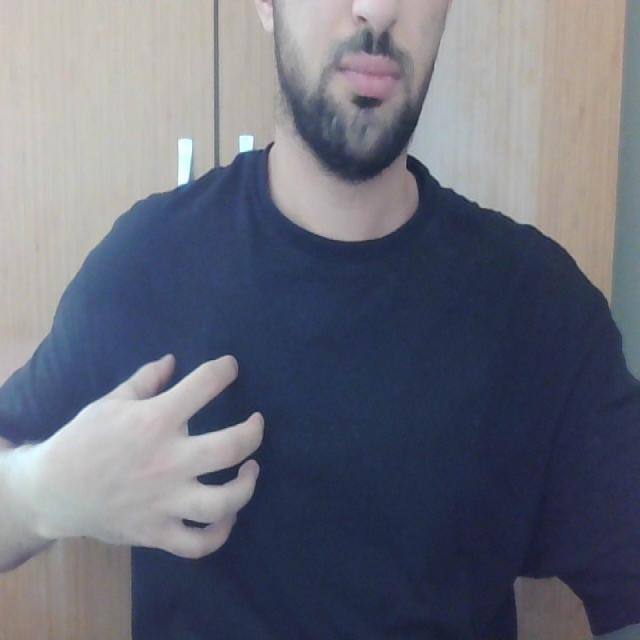Anne: (52, 344, 286, 566)
